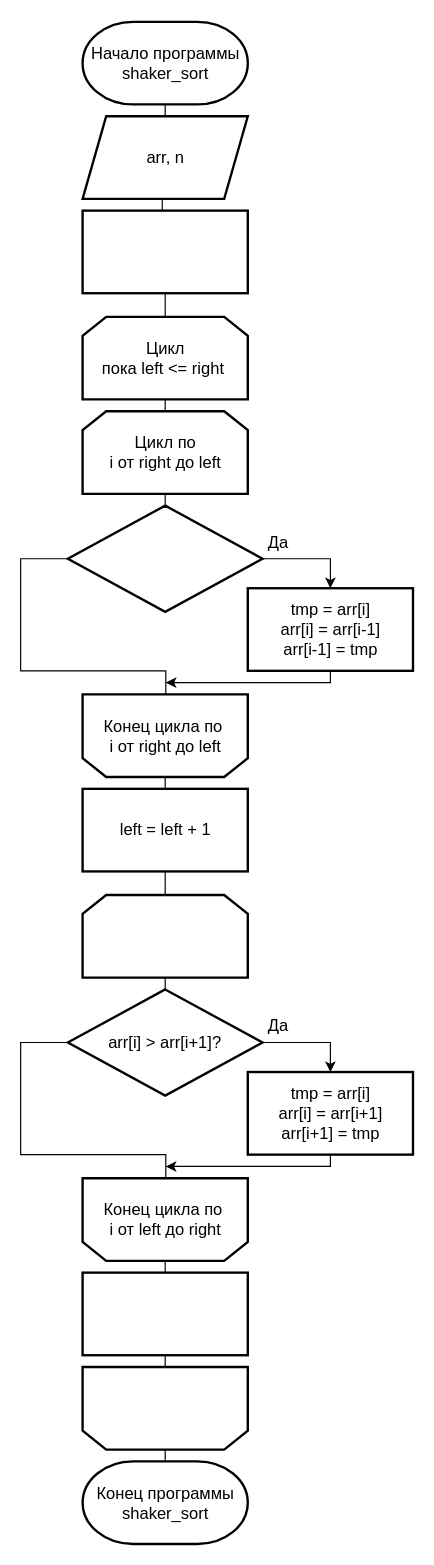
Image size: 434x1565. Some labels were removed from this diagram. Each missing label, with the centre of its shape:
"arr[i-1] > arr[i]?" goes at pixel 164 558.
"left = 0 right = n - 1" goes at pixel 164 251.
"right = right - 1" goes at pixel 164 1313.
"Конец цикла пока left <= right" goes at pixel 164 1407.
"Цикл по i от left до right" goes at pixel 164 935.
